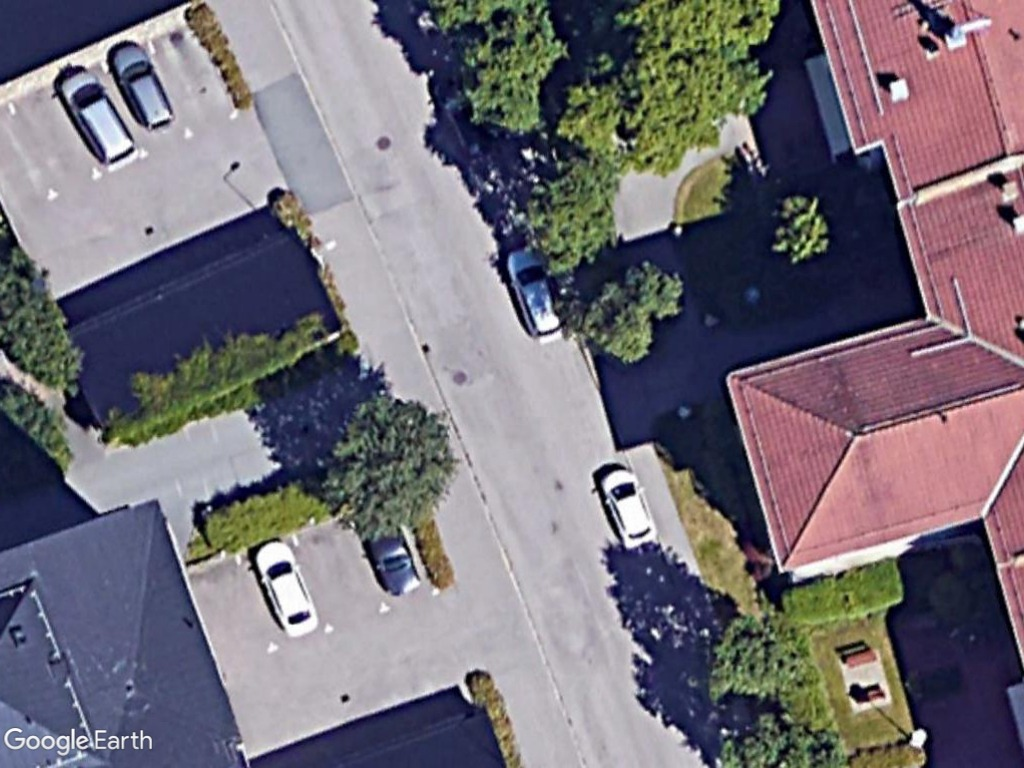car: (53, 61, 143, 174), (243, 534, 325, 644), (500, 242, 573, 349), (104, 37, 182, 134), (593, 459, 659, 553)
